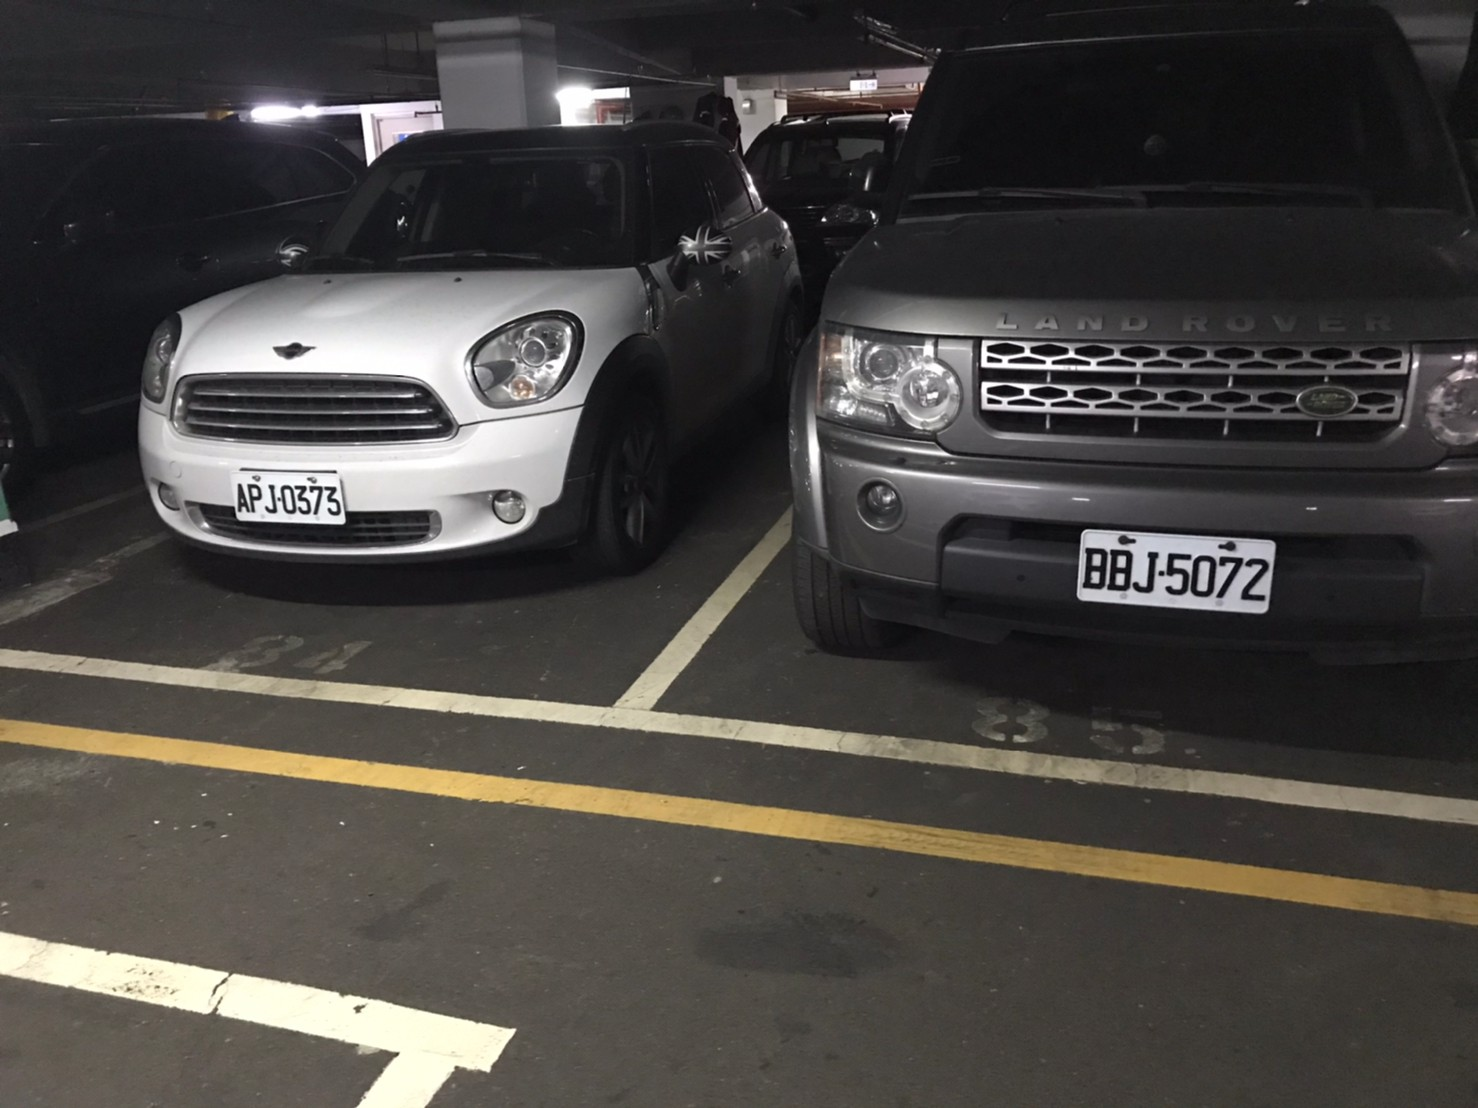LP: (1075, 523, 1273, 617), (227, 468, 351, 527)
